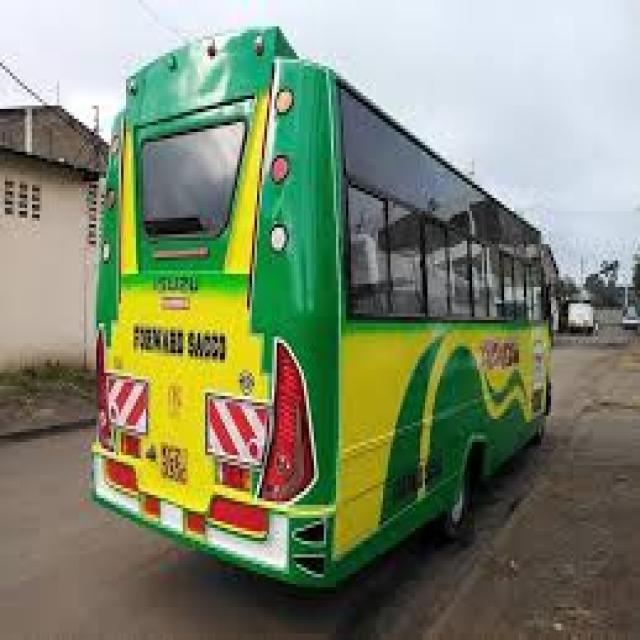bus: (65, 19, 601, 613)
